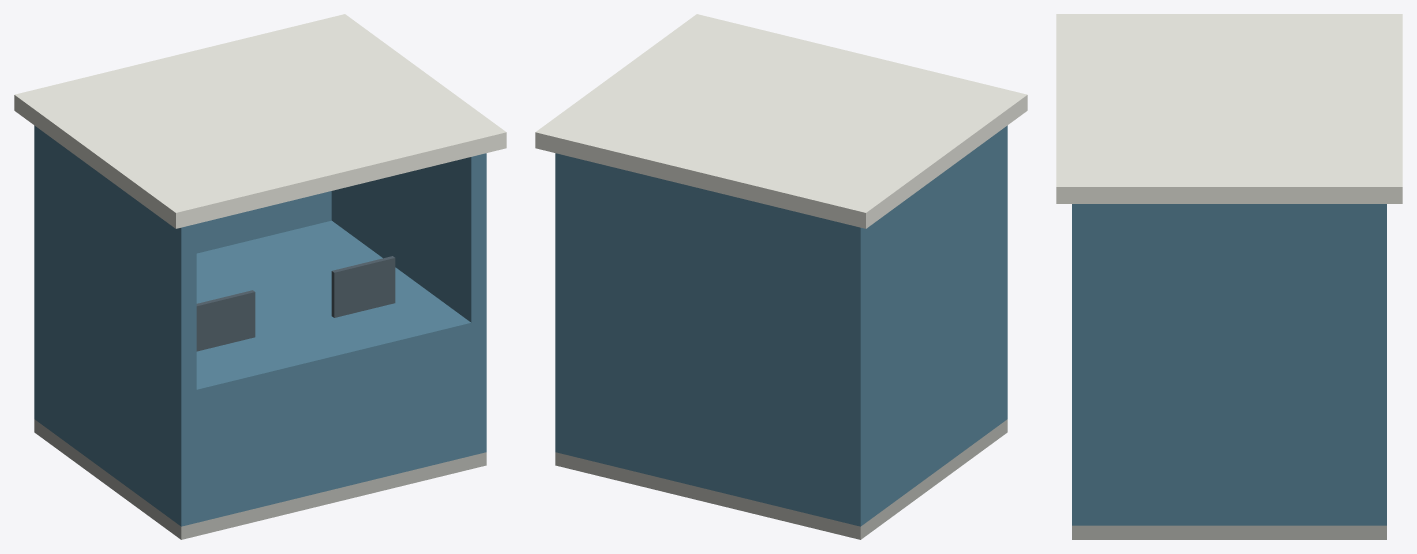
File: american-football-stadium-kit-replay-booth-e07c4105__22387.glb
3 views of the same model, side by side, from view 1: azimuth 30°, elevation 25°; view 2: azimuth 150°, elevation 25°; view 3: azimuth 270°, elevation 25° (orthographic). The views are drawn at different scales.
Visible parts, largest first — view 1: replay-booth; view 2: replay-booth; view 3: replay-booth.
Boxes of the visible parts, box(x1,y1,x2,y2) form: replay-booth: box(14, 14, 506, 539); replay-booth: box(535, 14, 1027, 539); replay-booth: box(1056, 14, 1402, 539).
Size of the model in its own units: 2.6 by 2.52 by 2.2.
